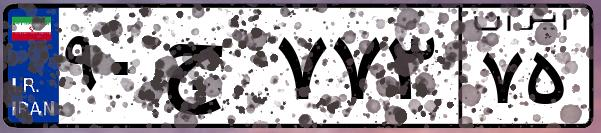0: (110, 28, 158, 98)
3: (385, 28, 445, 110)
5: (525, 38, 570, 115)
7: (270, 28, 330, 110), (330, 28, 385, 110), (475, 38, 525, 113)
9: (57, 26, 110, 100)
ج: (158, 20, 270, 120)
